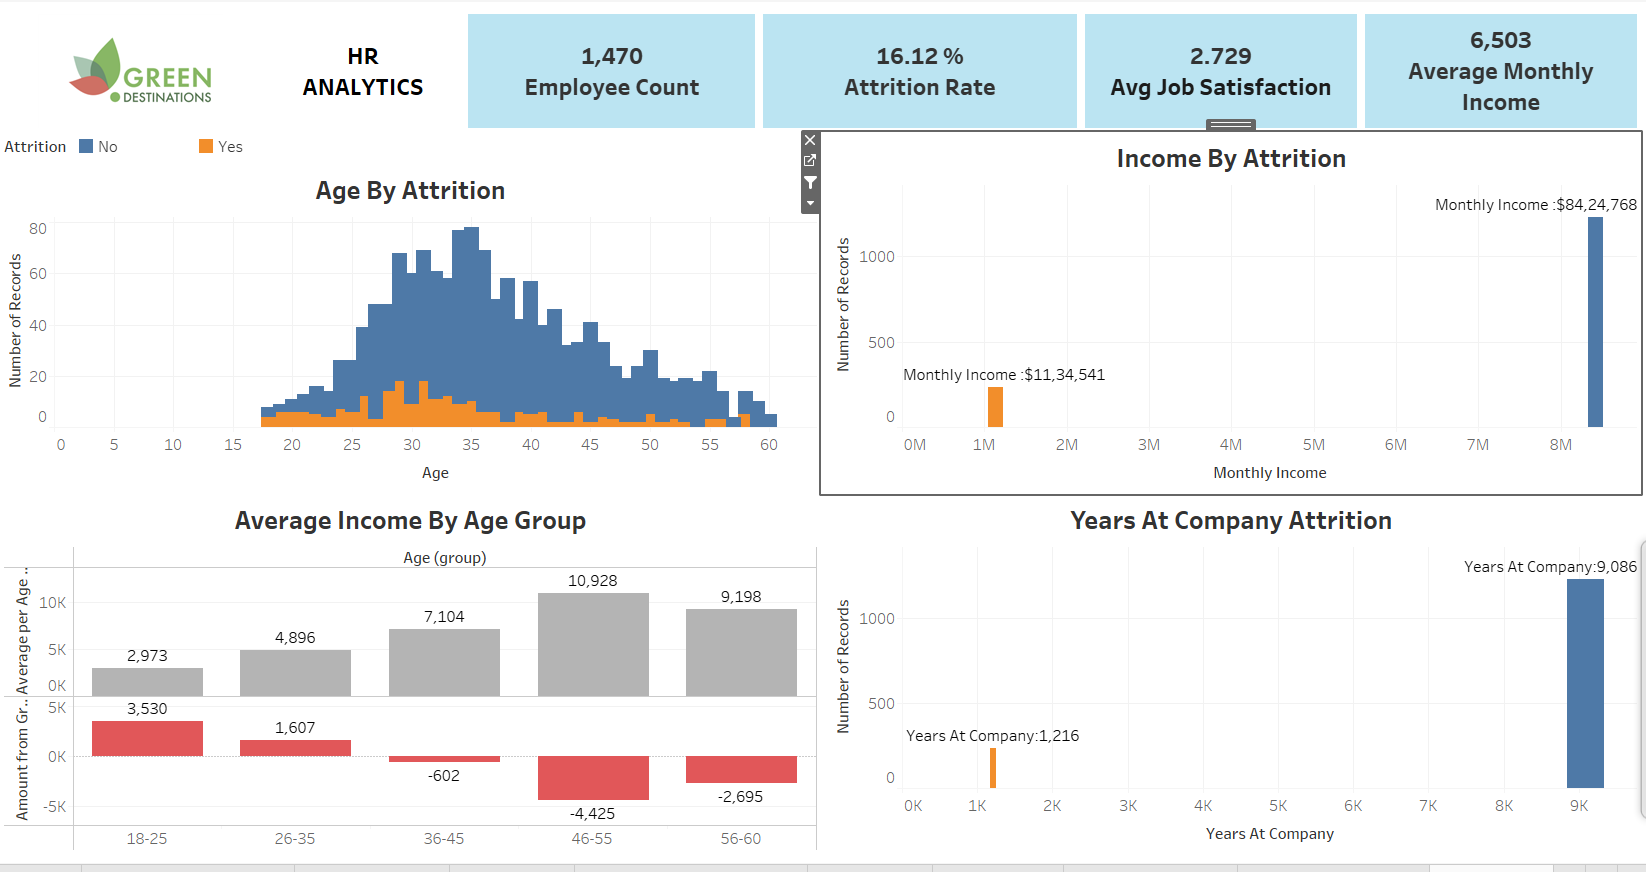

Layout of this report page (visuals, bound fields, positions):
{"tool":"tableau","page":{"name":"Dashboard 3","canvas":[1000,1000],"units":"permille","ordinal":2},"visuals":[{"type":"image","param":"Image/Green_Destination_photo.png","box":[4.8,9.3,158.1,141.7]},{"type":"text","box":[162.9,9.3,121.9,141.7]},{"type":"worksheet","title":"Total Employee Count","mark":"Automatic","box":[284.8,9.3,178,141.7]},{"type":"worksheet","title":"Attrition Rate","mark":"Text","box":[462.9,9.3,194.3,141.7]},{"type":"worksheet","title":"Job Satisfaction","mark":"Automatic","box":[657.2,9.3,169,141.7]},{"type":"worksheet","title":"Average Monthly income","mark":"Automatic","box":[826.2,9.3,169,141.7]},{"type":"legend","title":"Age By Attrition","param":"[federated.0prlbkr0my2iuw1469lhl1s926qb].[none:Attrition:nk]","box":[4.8,151,495.2,37.1]},{"type":"worksheet","title":"Income By Attrition","mark":"Bar","rows":["Calculation_2744943986479104001"],"cols":["MonthlyIncome"],"box":[500,151,495.2,419.9]},{"type":"worksheet","title":"Age By Attrition","mark":"Bar","rows":["Calculation_2744943986479104001"],"cols":["Age"],"box":[4.8,188.1,495.2,382.7]},{"type":"worksheet","title":"Average Income By Age Group","mark":"Automatic","rows":["Calculation_1263541225691201536","Calculation_1263541225699401730"],"box":[4.8,570.9,495.2,419.9]},{"type":"worksheet","title":"Years At Company Attrition","mark":"Bar","rows":["Calculation_2744943986479104001"],"cols":["YearsAtCompany"],"box":[500,570.9,495.2,419.9]}]}

Visuals, with their boxes on the dashboard's canvas, which has no fixed pixel size, in thousandths of its width and height (x1, y1, x2, y2). These are canvas units, not pixel positions in the 1646x872 screenshot, which may show the page scaled, cropped or inside an application window:
image: left=5, top=9, right=163, bottom=151
text: left=163, top=9, right=285, bottom=151
"Total Employee Count" worksheet: left=285, top=9, right=463, bottom=151
"Attrition Rate" worksheet (Text marks): left=463, top=9, right=657, bottom=151
"Job Satisfaction" worksheet: left=657, top=9, right=826, bottom=151
"Average Monthly income" worksheet: left=826, top=9, right=995, bottom=151
"Age By Attrition" legend: left=5, top=151, right=500, bottom=188
"Income By Attrition" worksheet (Bar marks): left=500, top=151, right=995, bottom=571
"Age By Attrition" worksheet (Bar marks): left=5, top=188, right=500, bottom=571
"Average Income By Age Group" worksheet: left=5, top=571, right=500, bottom=991
"Years At Company Attrition" worksheet (Bar marks): left=500, top=571, right=995, bottom=991
